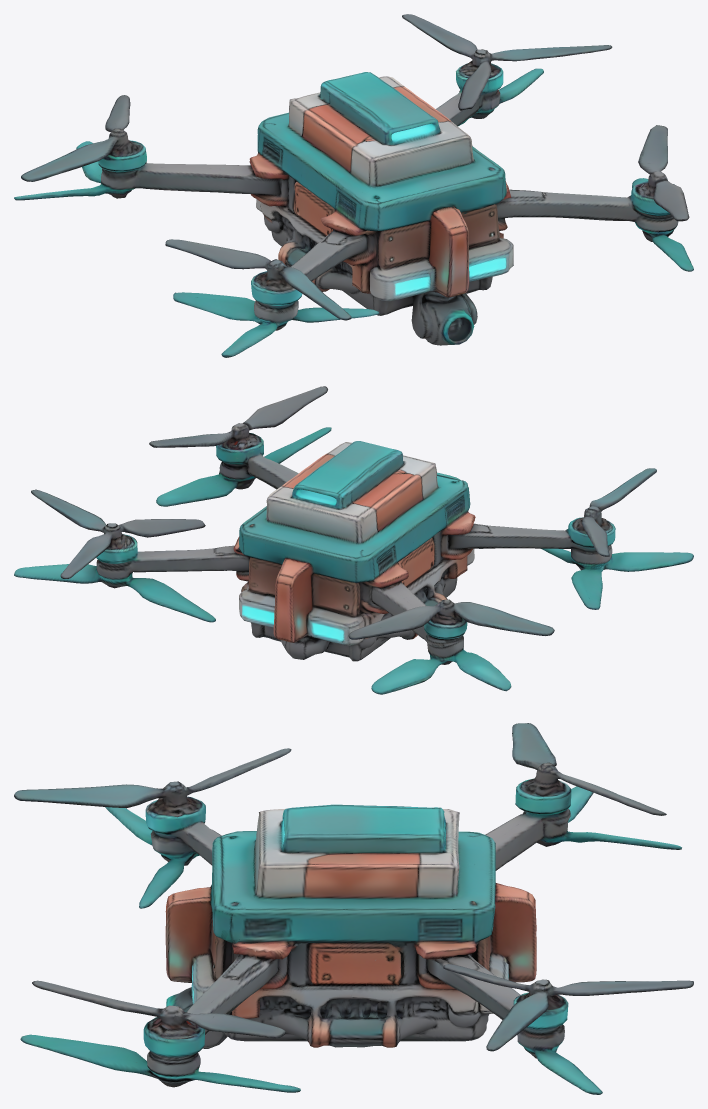
File: dron.fbx
The picture shows the model from 3 angles, top to bottom: view 1: azimuth 30°, elevation 25°; view 2: azimuth 150°, elevation 25°; view 3: azimuth 270°, elevation 25°; orthographic projection. The views are drawn at different scales.
Parts seen in each view (by area): view 1: model; view 2: model; view 3: model.
Boxes of the visible parts, x1,y1,x2,y2 form: model: (14,14,693,357); model: (14,386,693,694); model: (14,723,693,1094).
Size of the model in its own units: 190 by 60.97 by 165.
